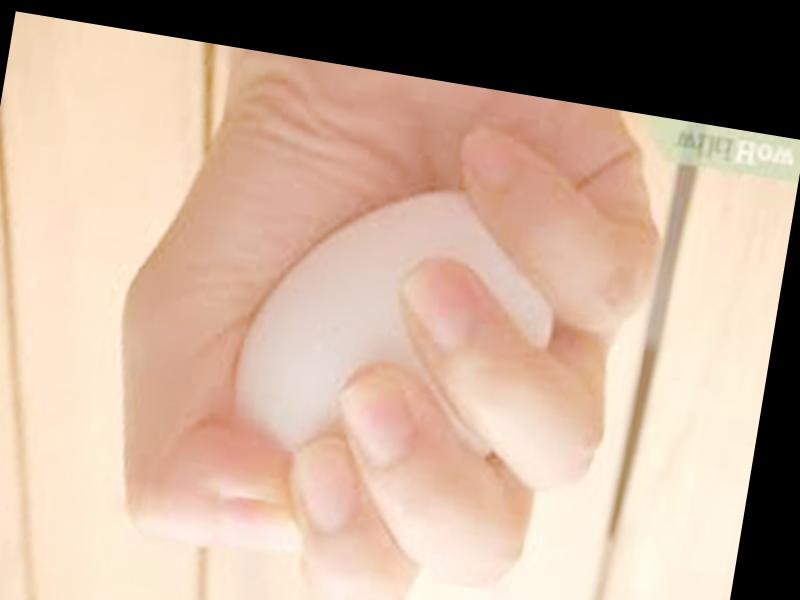Eggs: (223, 161, 572, 489)
